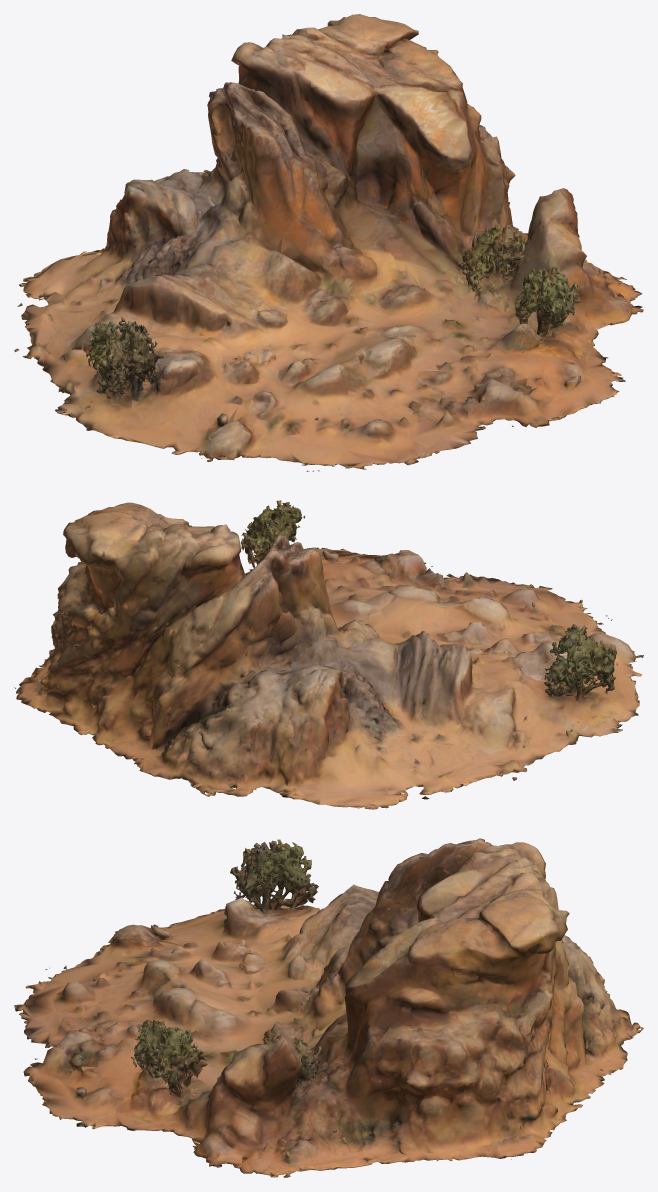
Rendered from Desert_Rock_Formation.glb.
3 renders of one model, top to bottom at view 1: azimuth 30°, elevation 25°; view 2: azimuth 150°, elevation 25°; view 3: azimuth 270°, elevation 25°, orthographic. The views are drawn at different scales.
Parts seen in each view (by area): view 1: Desert_Rock_Formation; view 2: Desert_Rock_Formation; view 3: Desert_Rock_Formation.
Boxes of the visible parts, box(x1,y1,x2,y2) form: Desert_Rock_Formation: box(14, 14, 643, 471); Desert_Rock_Formation: box(14, 500, 643, 809); Desert_Rock_Formation: box(14, 838, 643, 1177).
Bounding box in the file's own units: 1.9 × 0.6777 × 1.84.
Materials: 1 (1 with a texture image).
